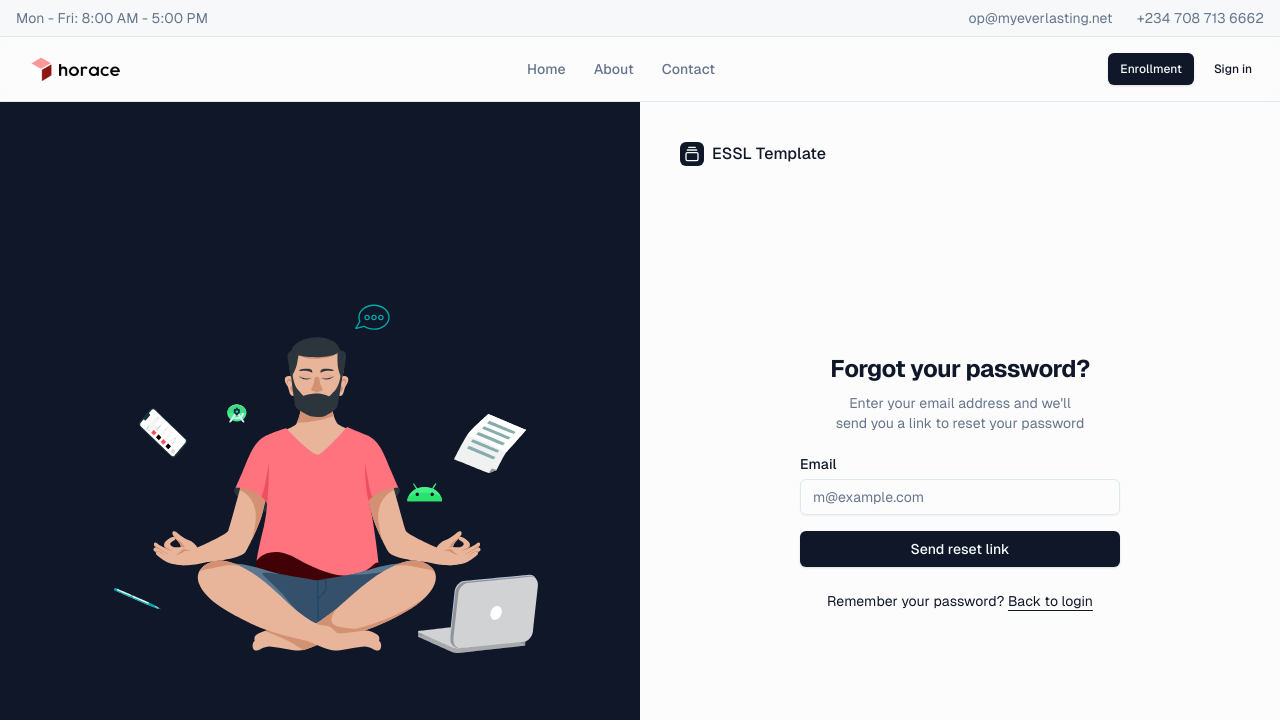
Test: Reset password page › Forgot password flow (no token) › shows validation error for empty email
Click the button "Send reset link".
click(960, 549)  # box [800, 531, 1120, 567]
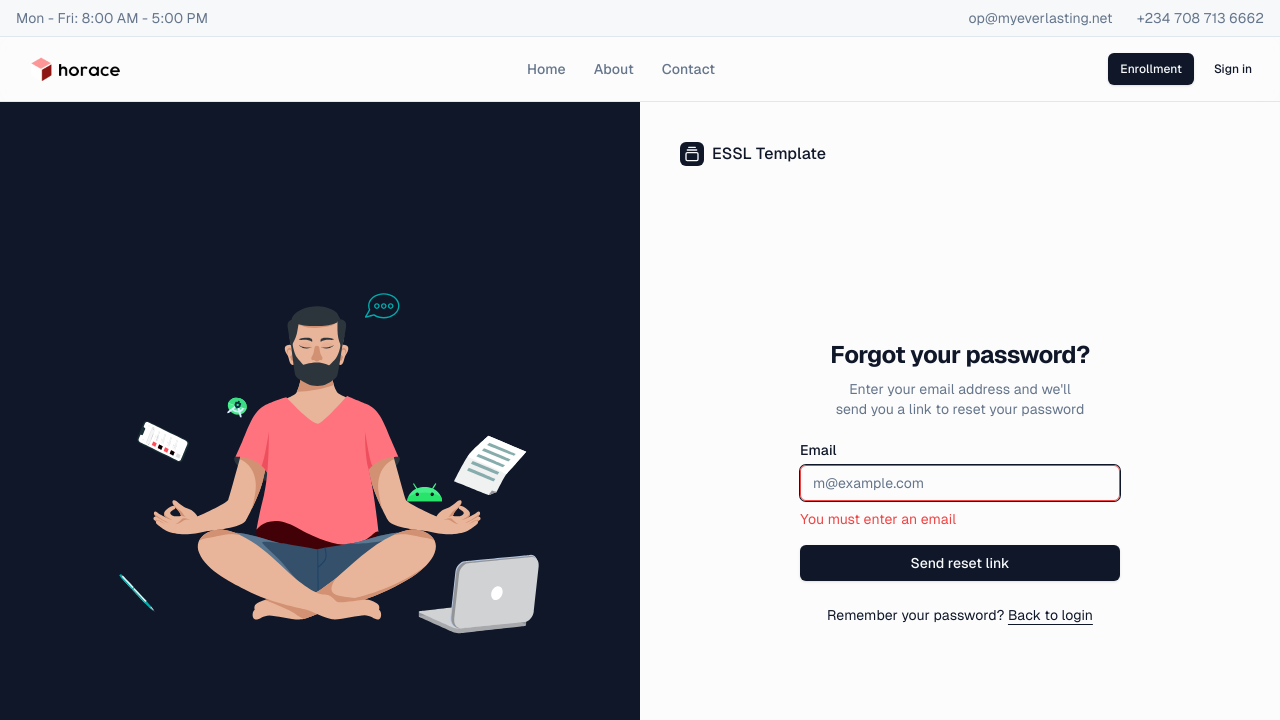
Expected: the text "You must enter an email" is shown, [800, 511, 956, 527]
